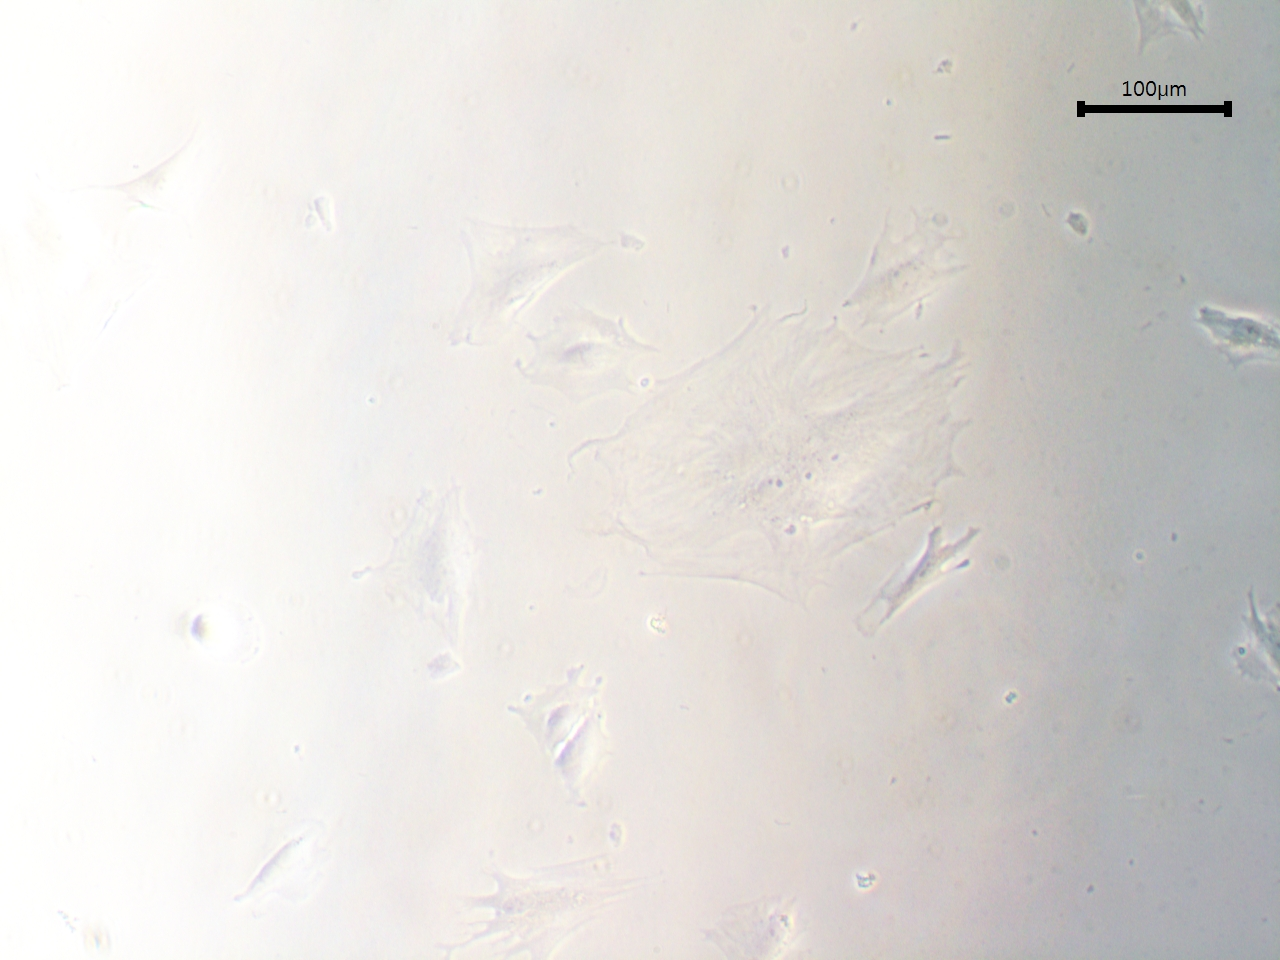dividing: (541, 306, 1025, 589)
medium-polygonal: (848, 517, 981, 639)
medium-spread: (418, 212, 637, 371), (347, 464, 494, 644)
small-spread: (510, 658, 593, 758), (554, 711, 618, 801)
